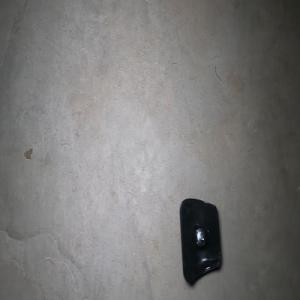LuggagePart: (178, 196, 222, 284)
